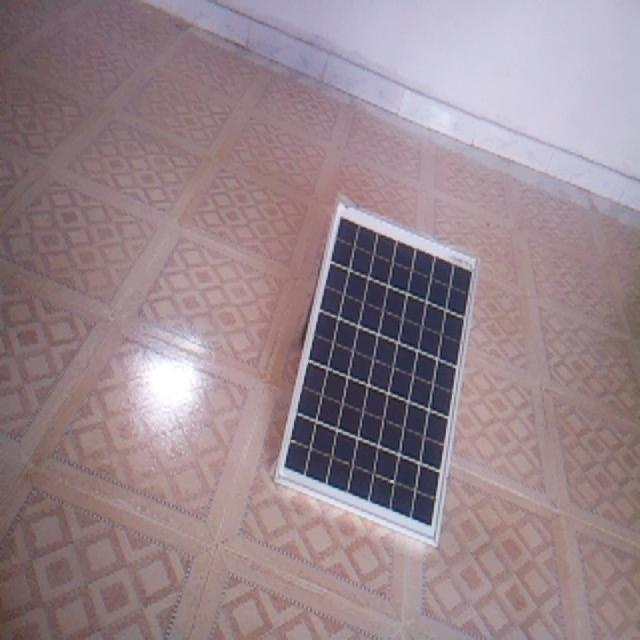Normal Solar Panel: (276, 204, 478, 547)
